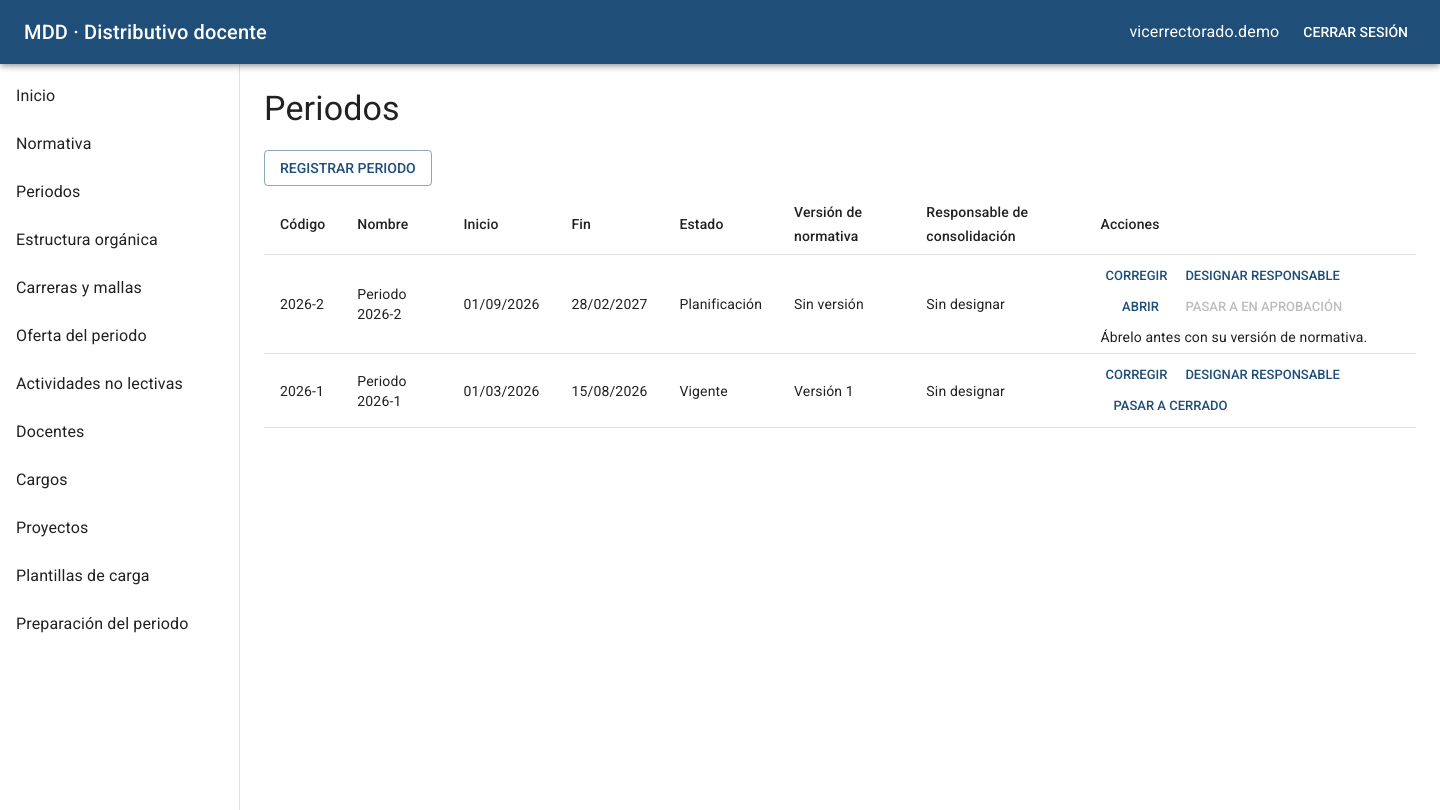
Test case: Periodos › Responsable de consolidación (F05-H03) › muestra el motivo de un 400, el título de un 409 y un aviso si el periodo aún no llegó
The width and height of the screenshot is (1440, 810).
Click the button with aria-label "Designar responsable 2026-2" at (1263, 277), box [1180,261,1345,292]
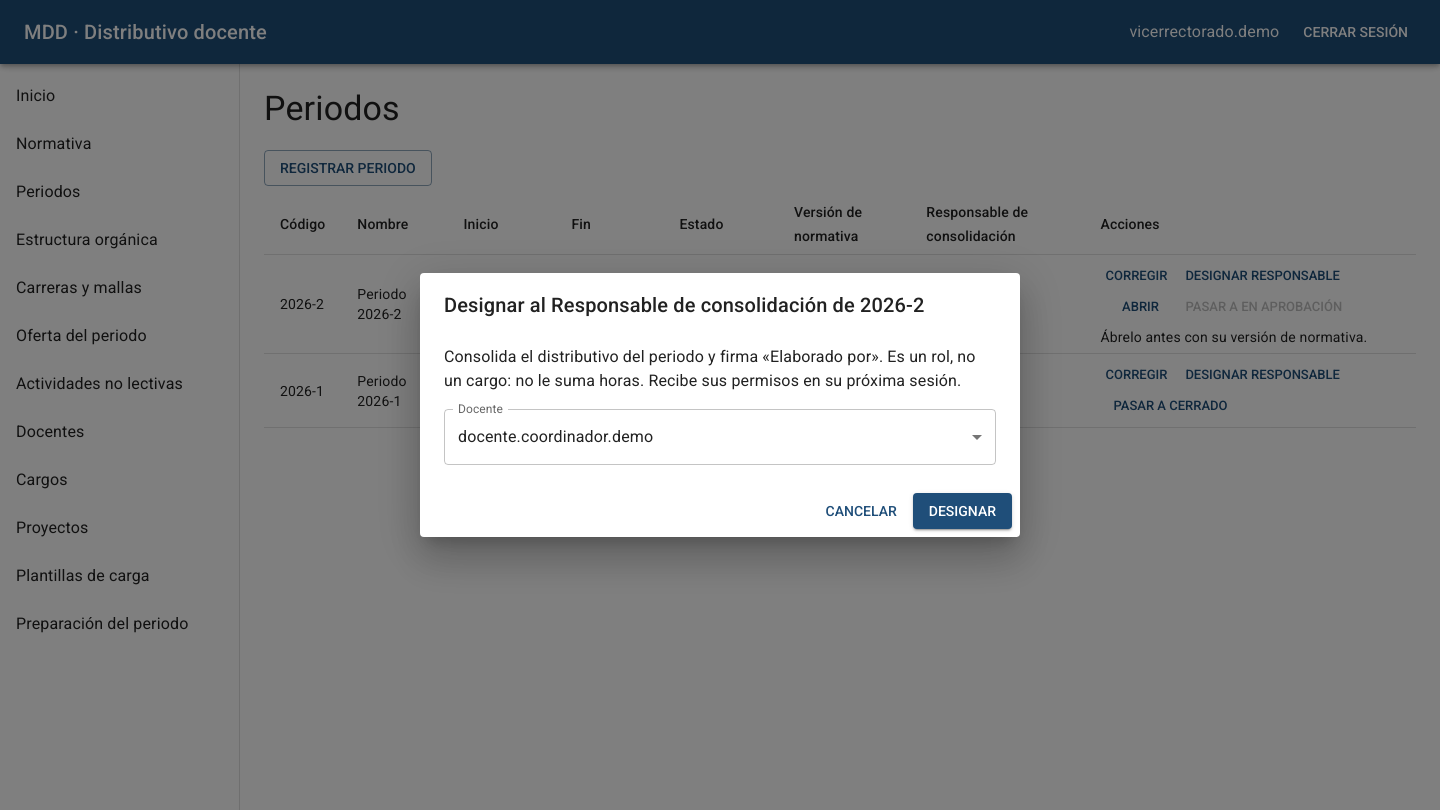
Click the button "Designar" at (962, 511), box [913,493,1012,529]
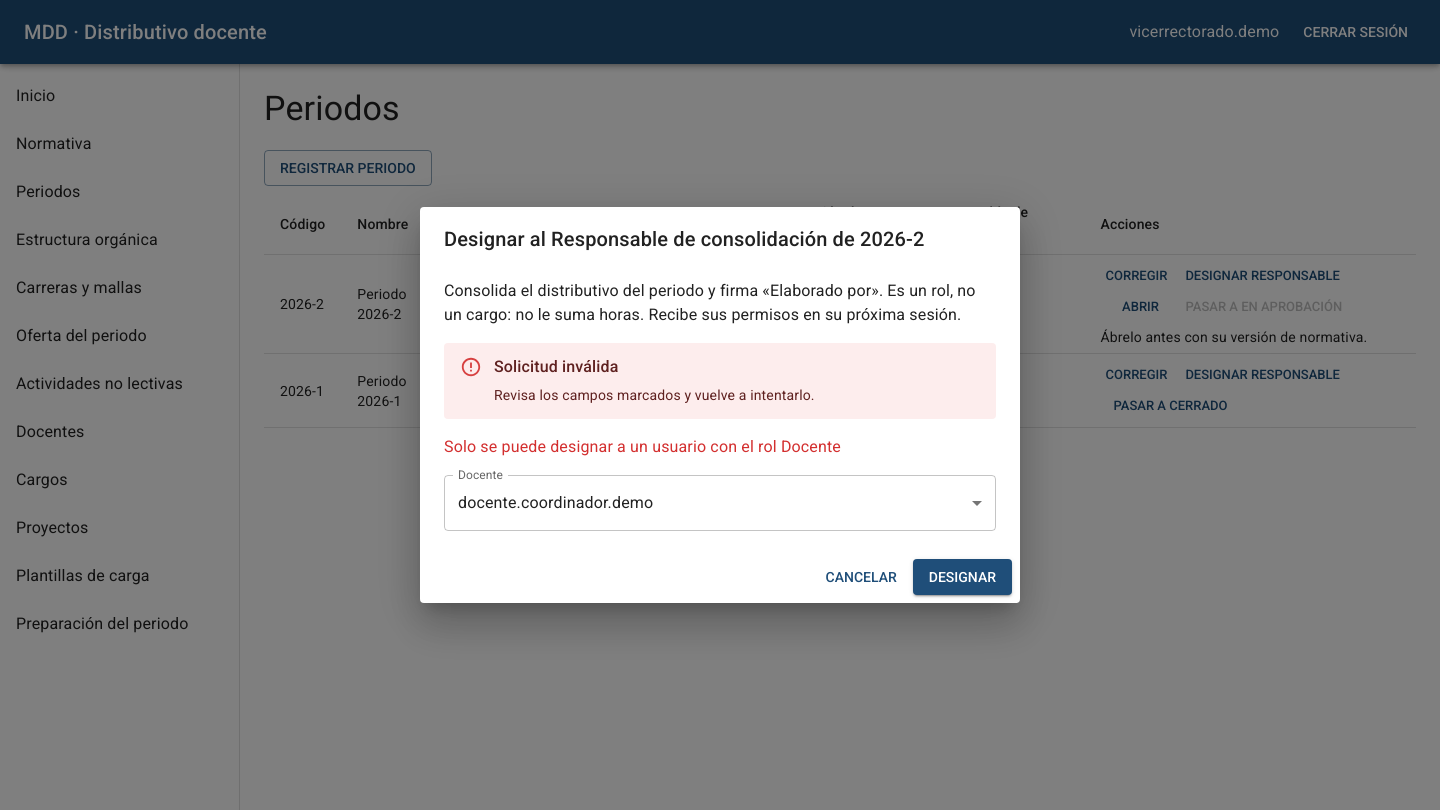
Expected: the text "Solo se puede designar a un usuario con el rol Docente" is shown, [444,436,841,456]
Click the button "Designar" at (962, 577), box [913,558,1012,595]
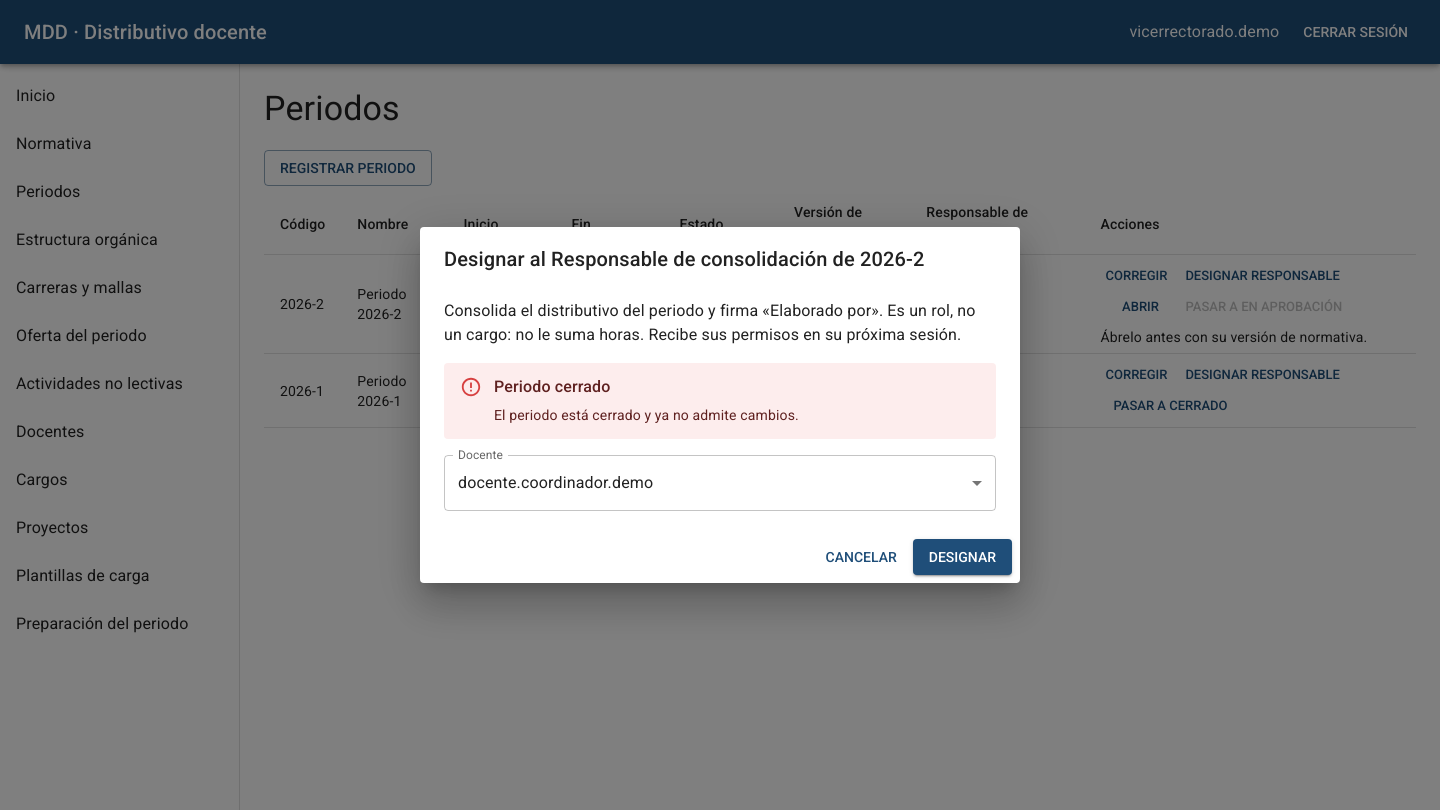
Expected: the message shows "Periodo cerrado", [494,377,610,396]
Click the button "Designar" at (962, 557), box [913,538,1012,575]
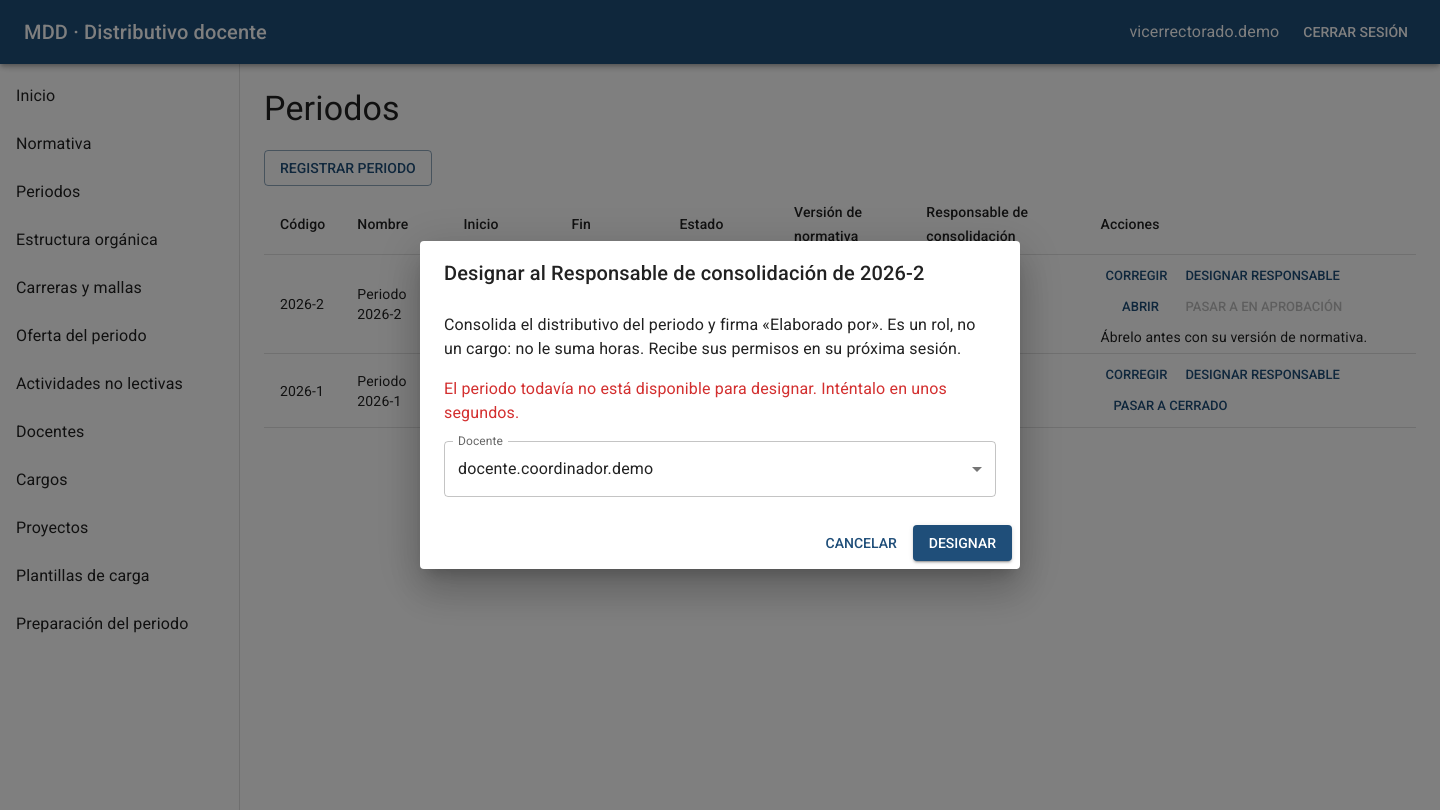
Expected: the text "El periodo todavía no está disponible para designar. Inténtalo en unos segundos." is shown, [444,377,996,425]
